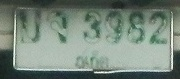txt06: (45, 10, 69, 45)
txt21: (18, 9, 41, 44)
